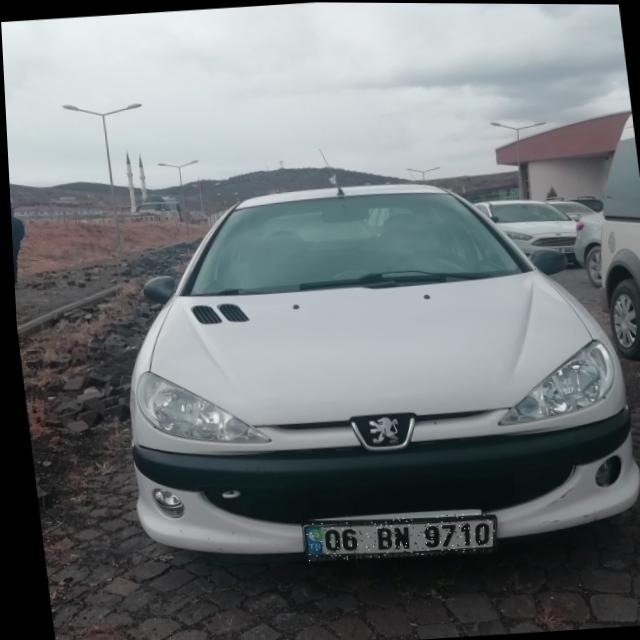license_plate: (297, 511, 493, 563)
